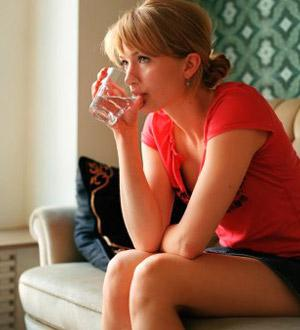person: (89, 1, 300, 330)
